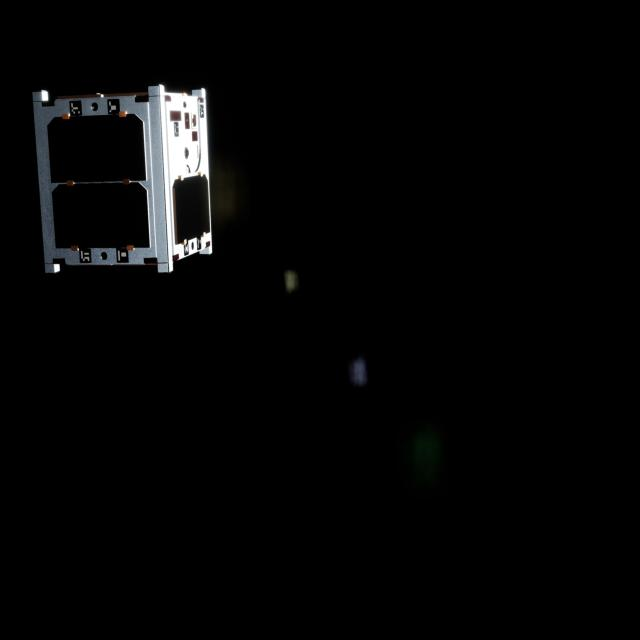medium_debris: (27, 83, 229, 281)
